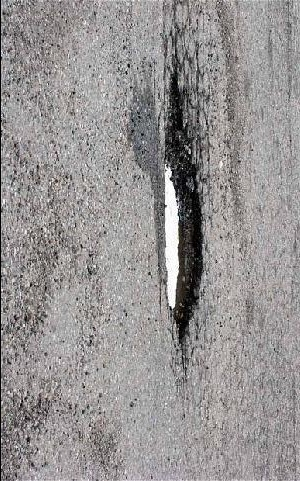pothole: (159, 68, 208, 339)
